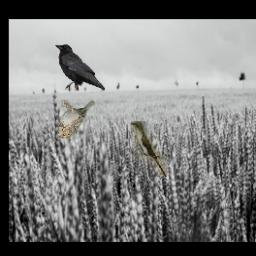Crow: (54, 44, 104, 91)
Cuckoo: (130, 121, 166, 177)
Sparrow: (58, 100, 95, 138)
